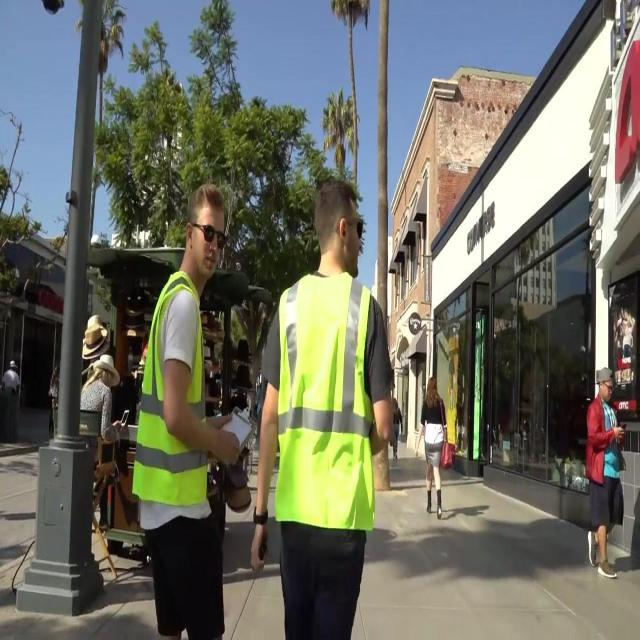Vest: (273, 271, 373, 534), (129, 271, 207, 507)
